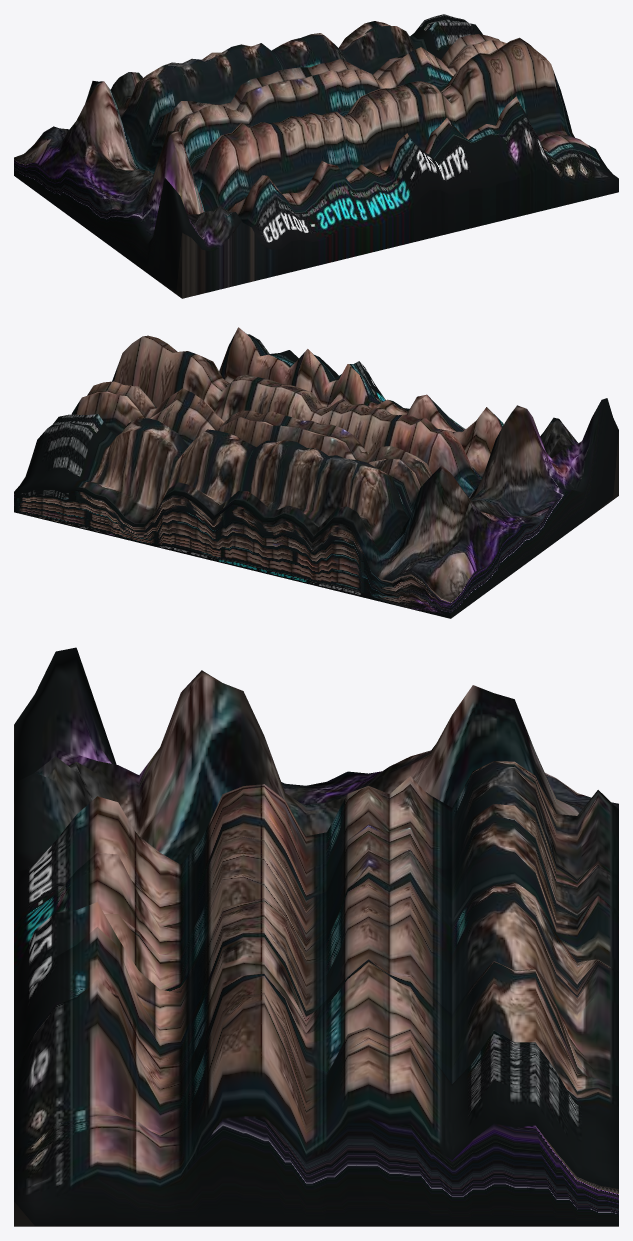
Rendered from CREATOR_Scars_Marks.glb.
The picture shows the model from 3 angles, top to bottom: view 1: azimuth 30°, elevation 25°; view 2: azimuth 150°, elevation 25°; view 3: azimuth 270°, elevation 25°; orthographic projection. The views are drawn at different scales.
Parts seen in each view (by area): view 1: CREATOR_Scars_Marks; view 2: CREATOR_Scars_Marks; view 3: CREATOR_Scars_Marks.
Boxes of the visible parts, x1,y1,x2,y2 form: CREATOR_Scars_Marks: (14, 14, 618, 298); CREATOR_Scars_Marks: (14, 327, 618, 618); CREATOR_Scars_Marks: (14, 647, 618, 1226).
Bounding box in the file's own units: 2 × 0.51 × 1.33.
Materials: 1 (1 with a texture image).
